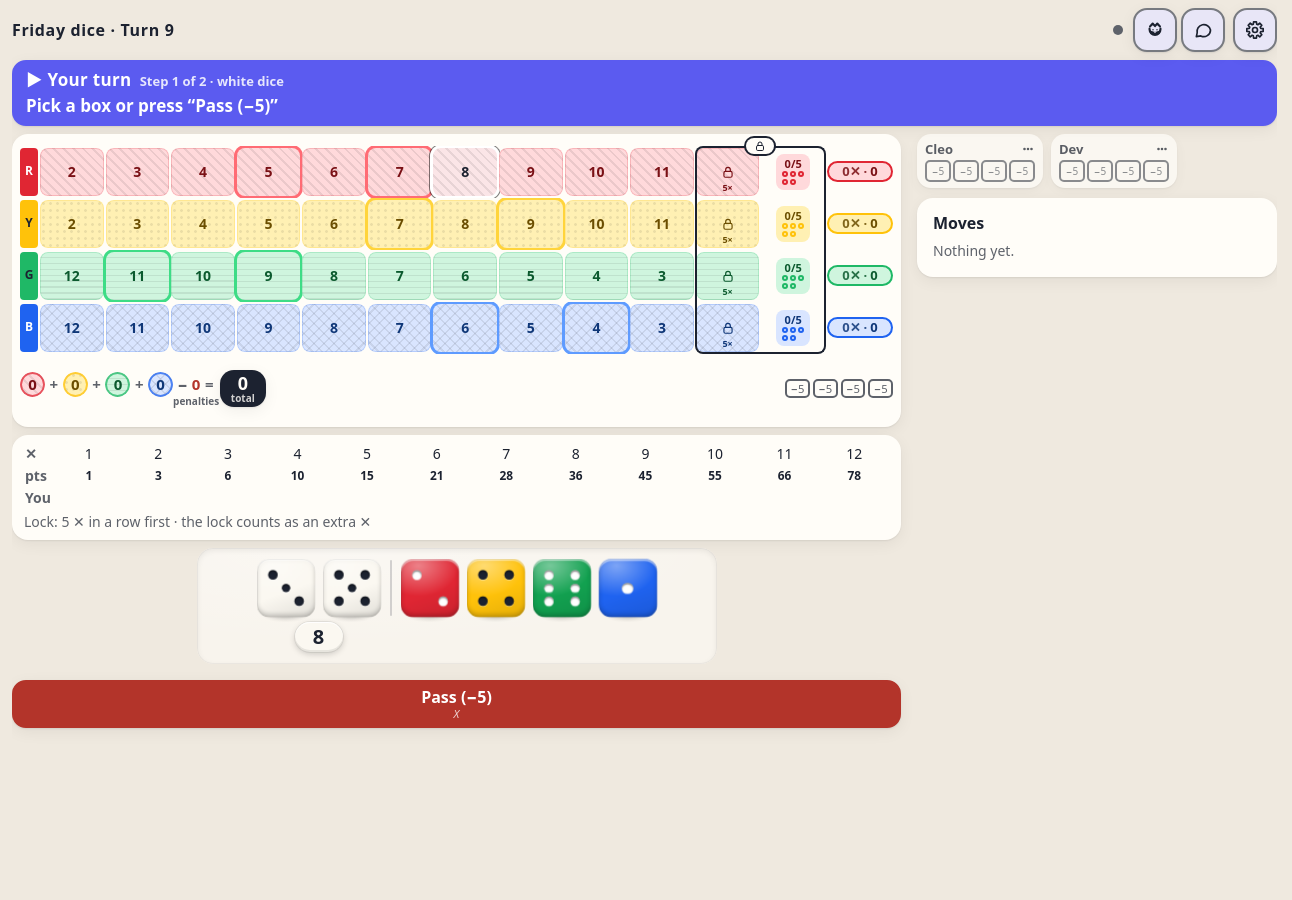
step number markers (T-NEW-14) › after the move is sent the number gives way to the corner cross
What coordinates should you click on to do the following:
click the button named "Red 8, can mark"
I would click on:
 (465, 172)
Its box is top-left (434, 148), bottom-right (497, 196).
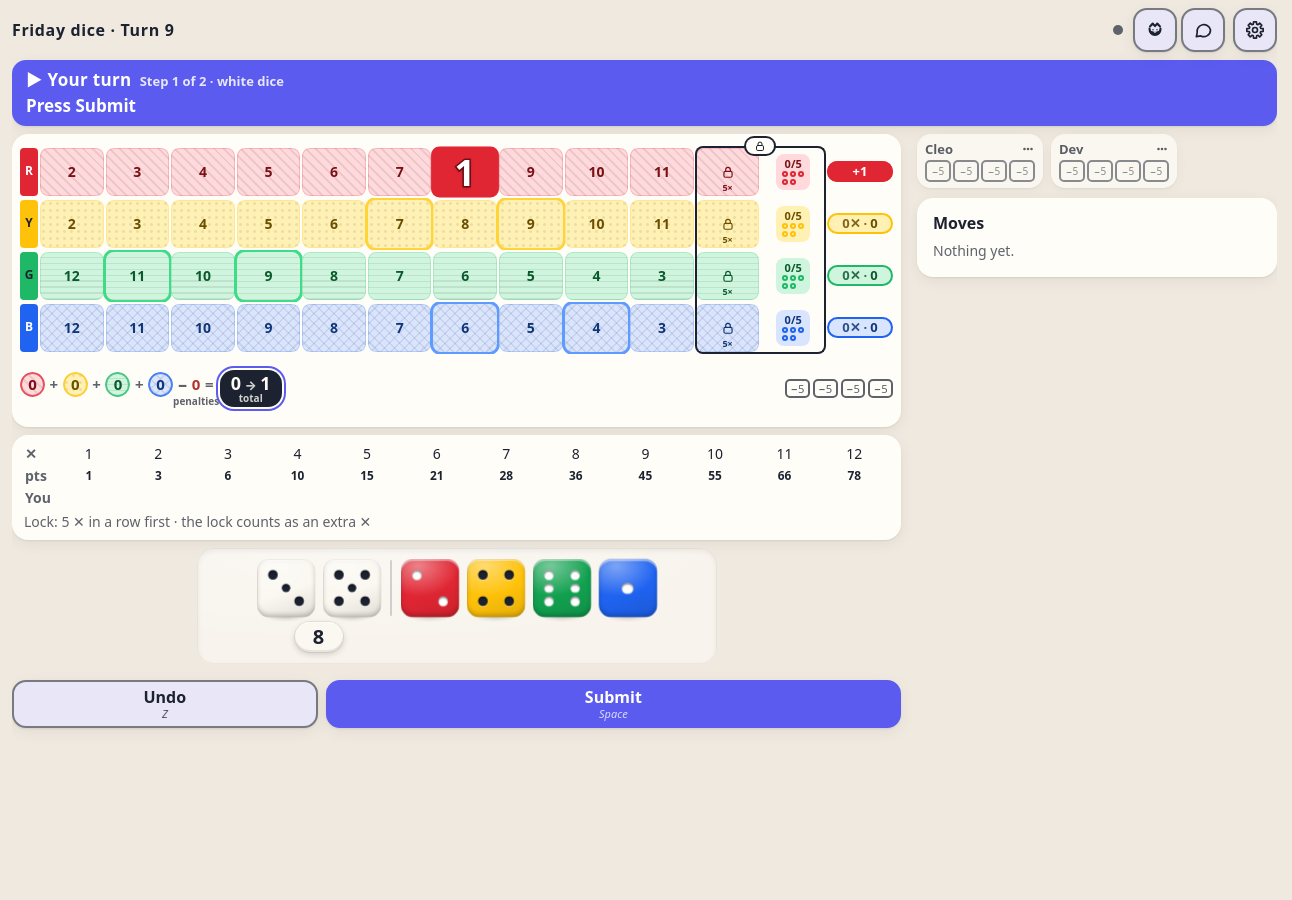
What coordinates should you click on to do the following:
click the button "Submit"
I would click on:
 (613, 697)
Its box is top-left (585, 688), bottom-right (642, 707).
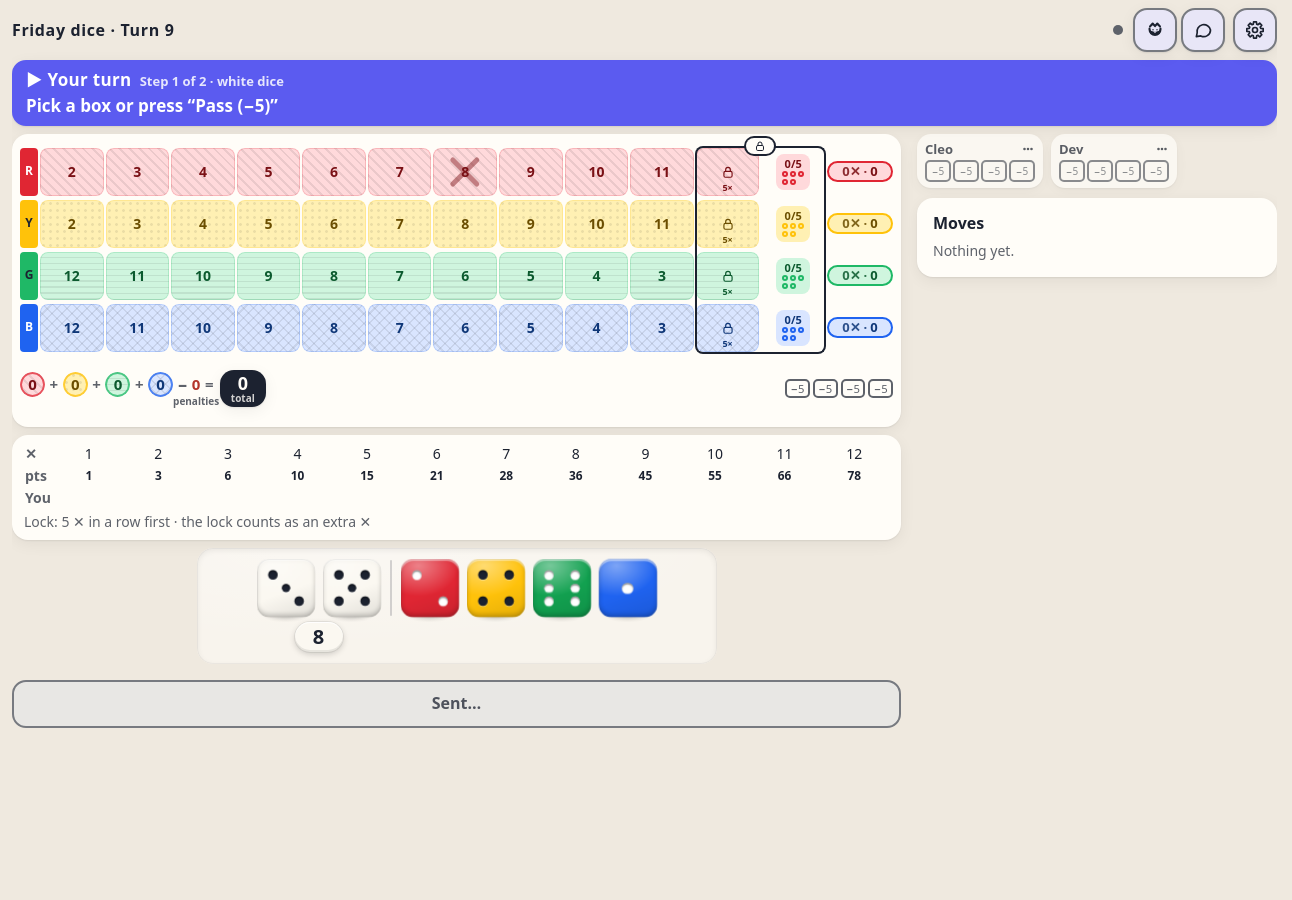
Now the number of icons with class "g-x" is 1, box top-left (438, 152), bottom-right (493, 192)
